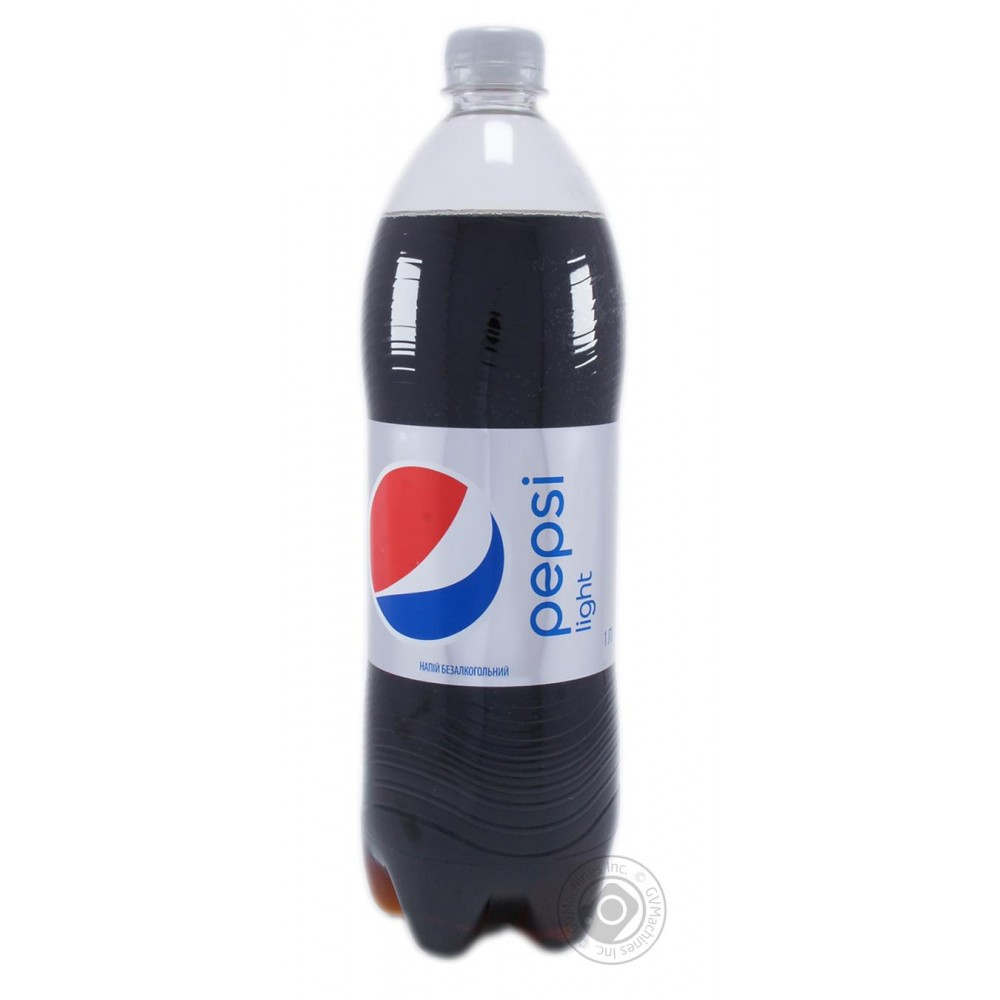pepsi_bottle: (358, 23, 623, 959)
